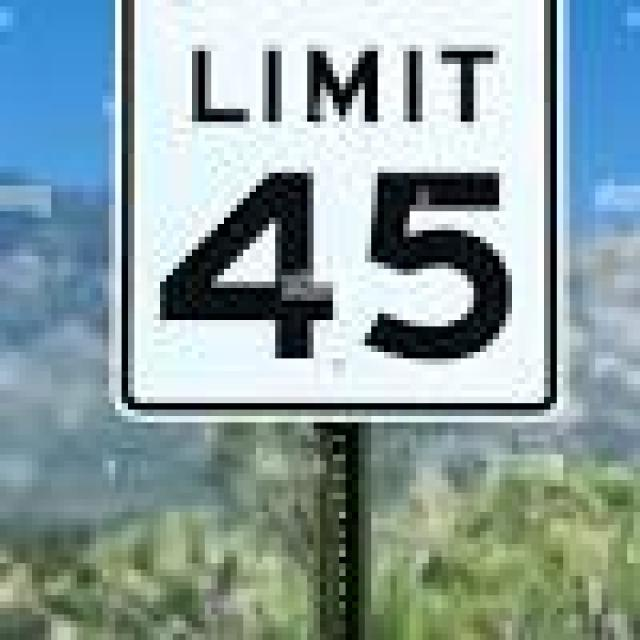speedLimit45: (119, 4, 554, 406)
